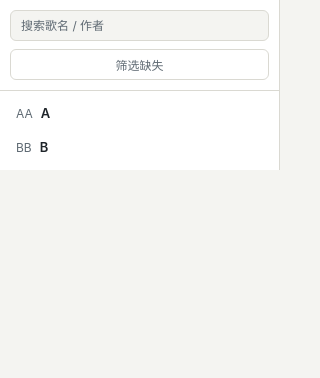
Scenario: SongList — 缺失筛选面板 › 扫描完成无命中显示专用空态，关闭后恢复完整列表
This screenshot has width=320, height=378.
Click the button with class "missing-filter-btn".
click(140, 64)  # box [10,49,269,80]
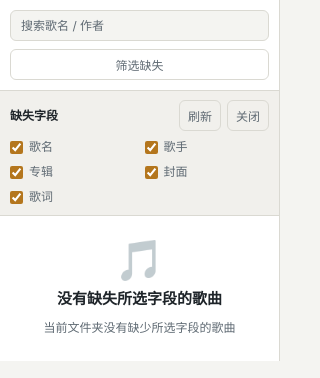
Expected: the text "没有缺失所选字段的歌曲" is shown, [57,288,222,310]
Click the button with class "missing-close-btn".
click(248, 116)  # box [227,100,269,131]
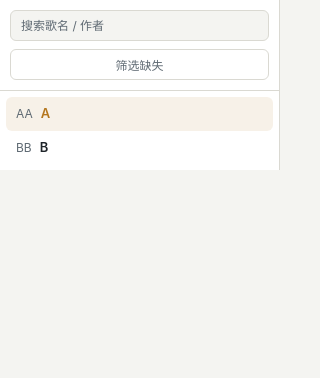
Expected: the number of list items with class "song-row" is 2, [6,97,273,130]; [16,138,48,154]
